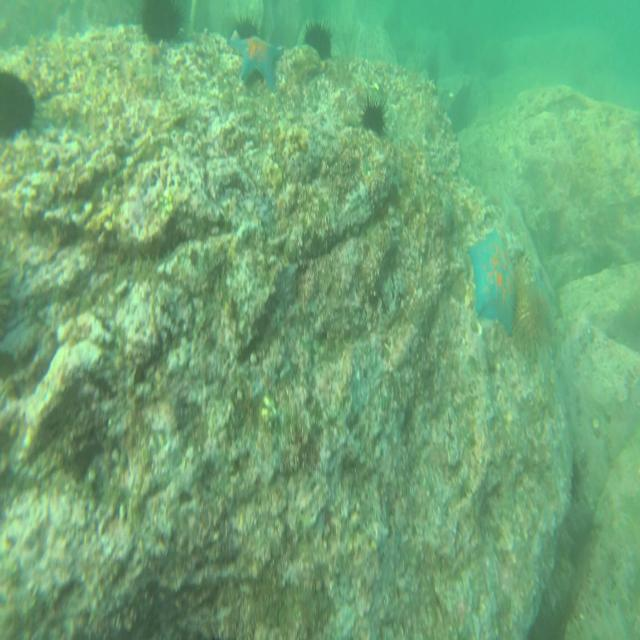echinus: (512, 282, 546, 356), (137, 0, 187, 46), (2, 68, 33, 133), (302, 24, 331, 56), (360, 94, 384, 130), (235, 13, 261, 38)
starfish: (464, 222, 521, 330), (240, 32, 280, 88)
